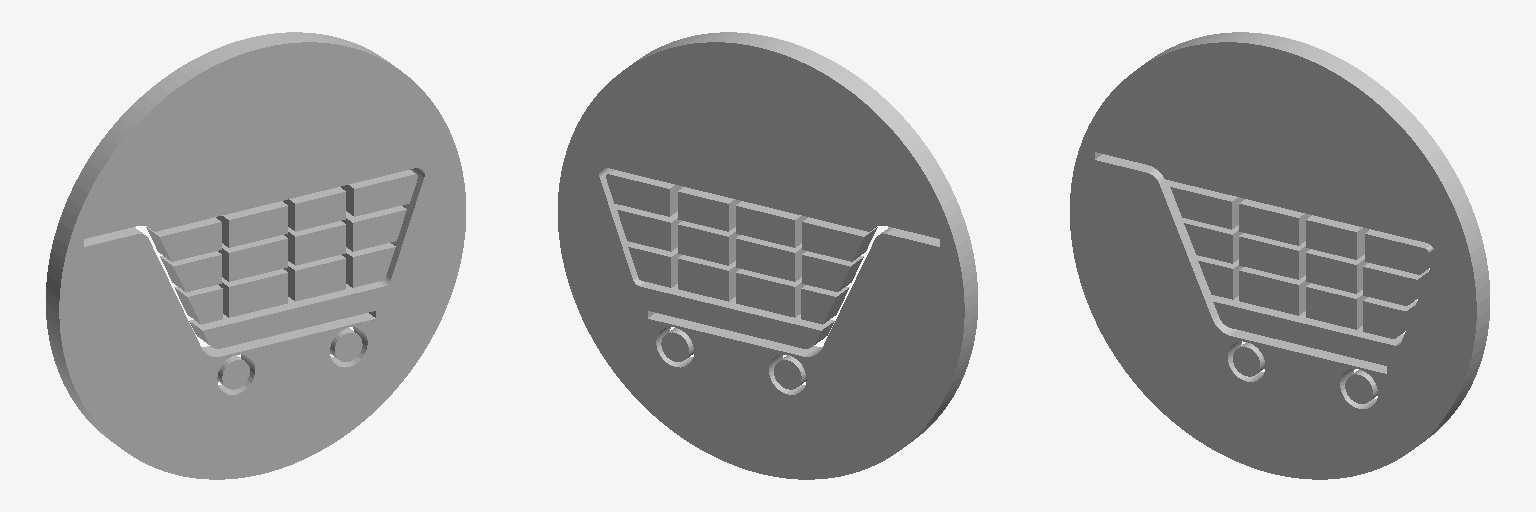
File: checkout.obj
The picture shows the model from 3 angles: view 1: azimuth 30°, elevation 25°; view 2: azimuth 150°, elevation 25°; view 3: azimuth 330°, elevation 25°; orthographic projection.
Visible parts, largest first — view 1: ICON_Circle.002; view 2: ICON_Circle.002; view 3: ICON_Circle.002.
Part boxes in pixels (x1,y1,x2,y2): ICON_Circle.002: (46, 32, 465, 479); ICON_Circle.002: (558, 32, 977, 479); ICON_Circle.002: (1070, 32, 1489, 479).
Bounding box in the file's own units: 84.7 × 84.71 × 4.92.